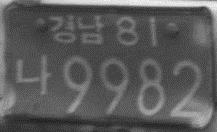1: (145, 15, 161, 48)
2: (169, 59, 204, 120)
8: (135, 56, 167, 116), (115, 14, 139, 47)
9: (61, 54, 93, 114), (99, 57, 130, 116)
경남_O: (47, 14, 105, 46)
나: (14, 53, 53, 97)
